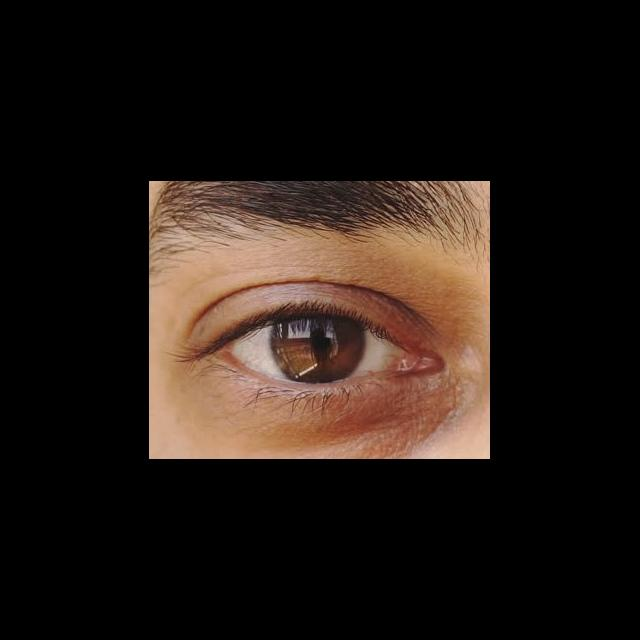eye: (228, 313, 406, 386)
iris: (270, 317, 366, 383)
